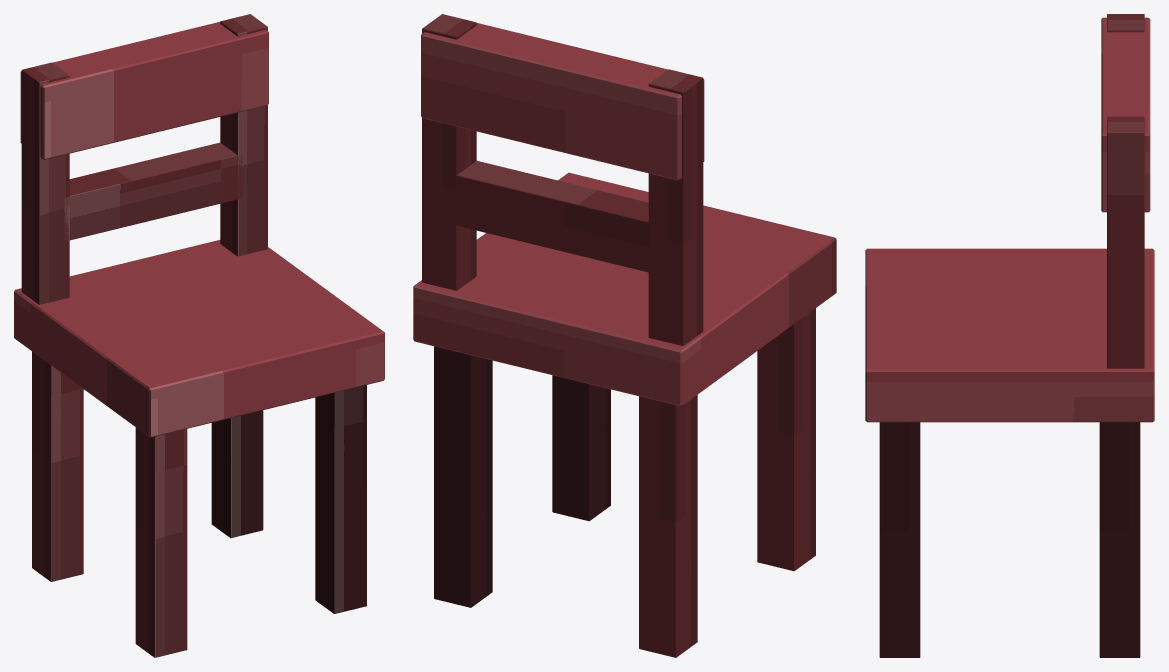
Rendered from wooden_chair_mahogany.glb.
3 views of the same model, side by side, from view 1: azimuth 30°, elevation 25°; view 2: azimuth 150°, elevation 25°; view 3: azimuth 270°, elevation 25° (orthographic). The views are drawn at different scales.
Visible parts, largest first — view 1: ChairSeat, BackTop, ChairLeg_1, ChairLeg_2, ChairLeg_3, BackRail, BackPost_L, BackPost_R, ChairLeg_4; view 2: ChairSeat, BackTop, ChairLeg_3, ChairLeg_4, ChairLeg_1, BackRail, BackPost_L, BackPost_R, ChairLeg_2; view 3: ChairSeat, ChairLeg_2, ChairLeg_4, BackPost_R, BackTop, BackPost_L.
Boxes of the visible parts, x1,y1,x2,y2 form: ChairSeat: (14,240,384,437); BackTop: (20,22,268,159); ChairLeg_1: (135,427,187,657); ChairLeg_2: (315,385,366,613); ChairLeg_3: (32,351,83,581); BackRail: (64,142,242,240); BackPost_L: (21,62,69,304); BackPost_R: (220,14,267,256); ChairLeg_4: (211,410,263,538); ChairSeat: (413,172,836,406); BackTop: (421,23,704,180); ChairLeg_3: (639,395,697,657); ChairLeg_4: (434,346,492,607); ChairLeg_1: (757,308,815,571); BackRail: (450,161,654,272); BackPost_L: (648,69,703,345); BackPost_R: (422,14,476,290); ChairLeg_2: (552,375,610,521); ChairSeat: (865,248,1154,422); ChairLeg_2: (879,422,920,657); ChairLeg_4: (1099,422,1140,657); BackPost_R: (1107,116,1144,368); BackTop: (1101,17,1150,212); BackPost_L: (1107,14,1144,32).
Bounding box in the file's own units: 0.5 × 1.01 × 0.5.
1 material, 1 textured.
